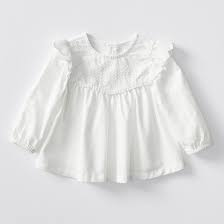S_blouse: (15, 35, 213, 186)
